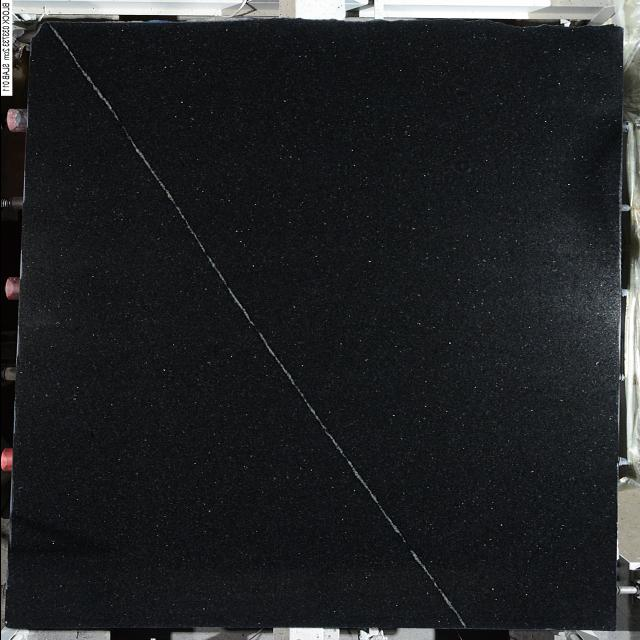chapa: (7, 19, 621, 630)
